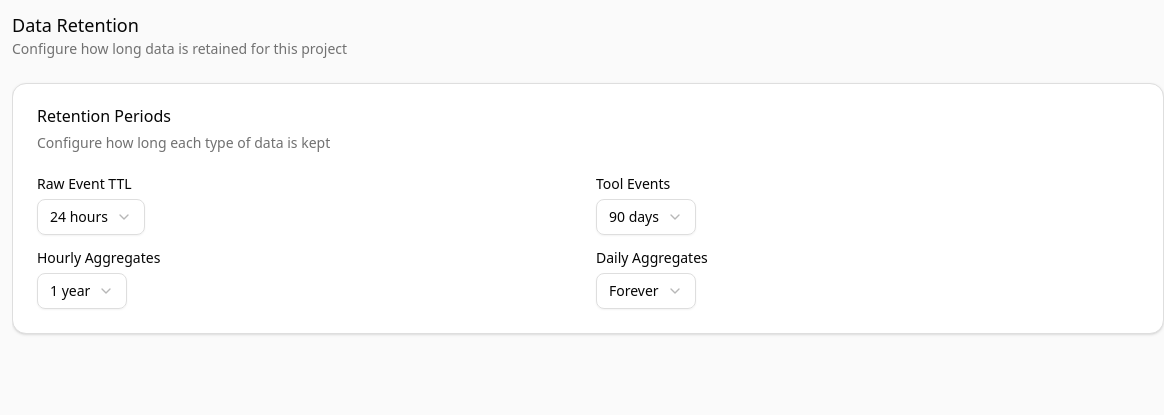
Test case: ProjectRetentionPolicySection › shows error alert when mutation fails
Click the dropdown labelled "24 hours": (91, 217) [37,199,145,235]
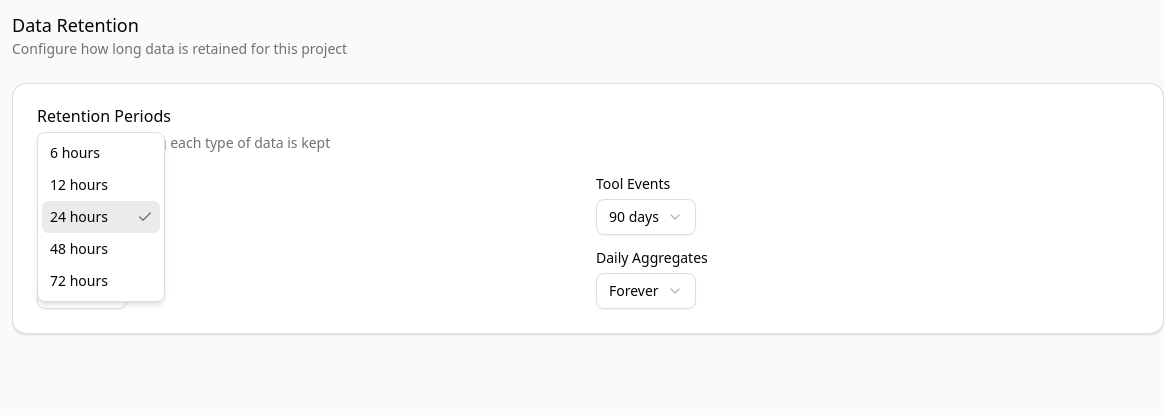
Click the option "48 hours": (79, 248) [50,239,108,258]
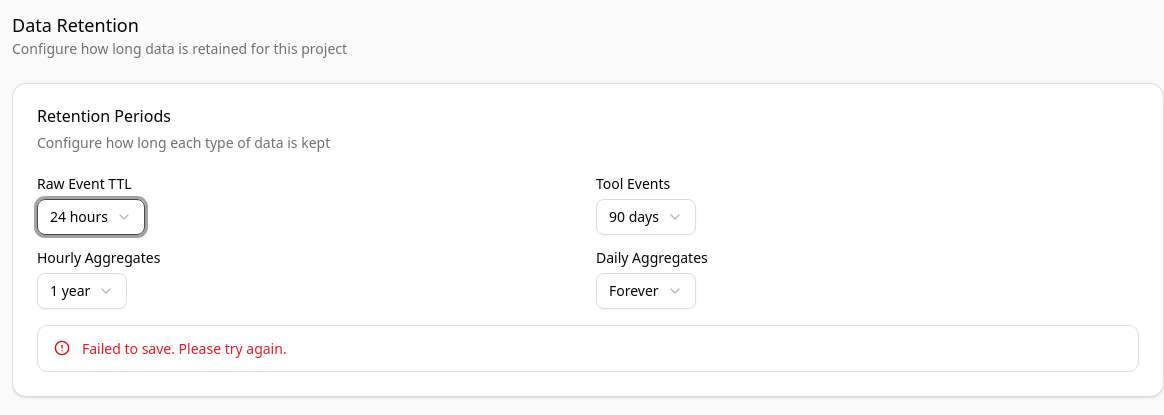
Expected: the text "Failed to save. Please try again." is shown, [82,339,287,358]
